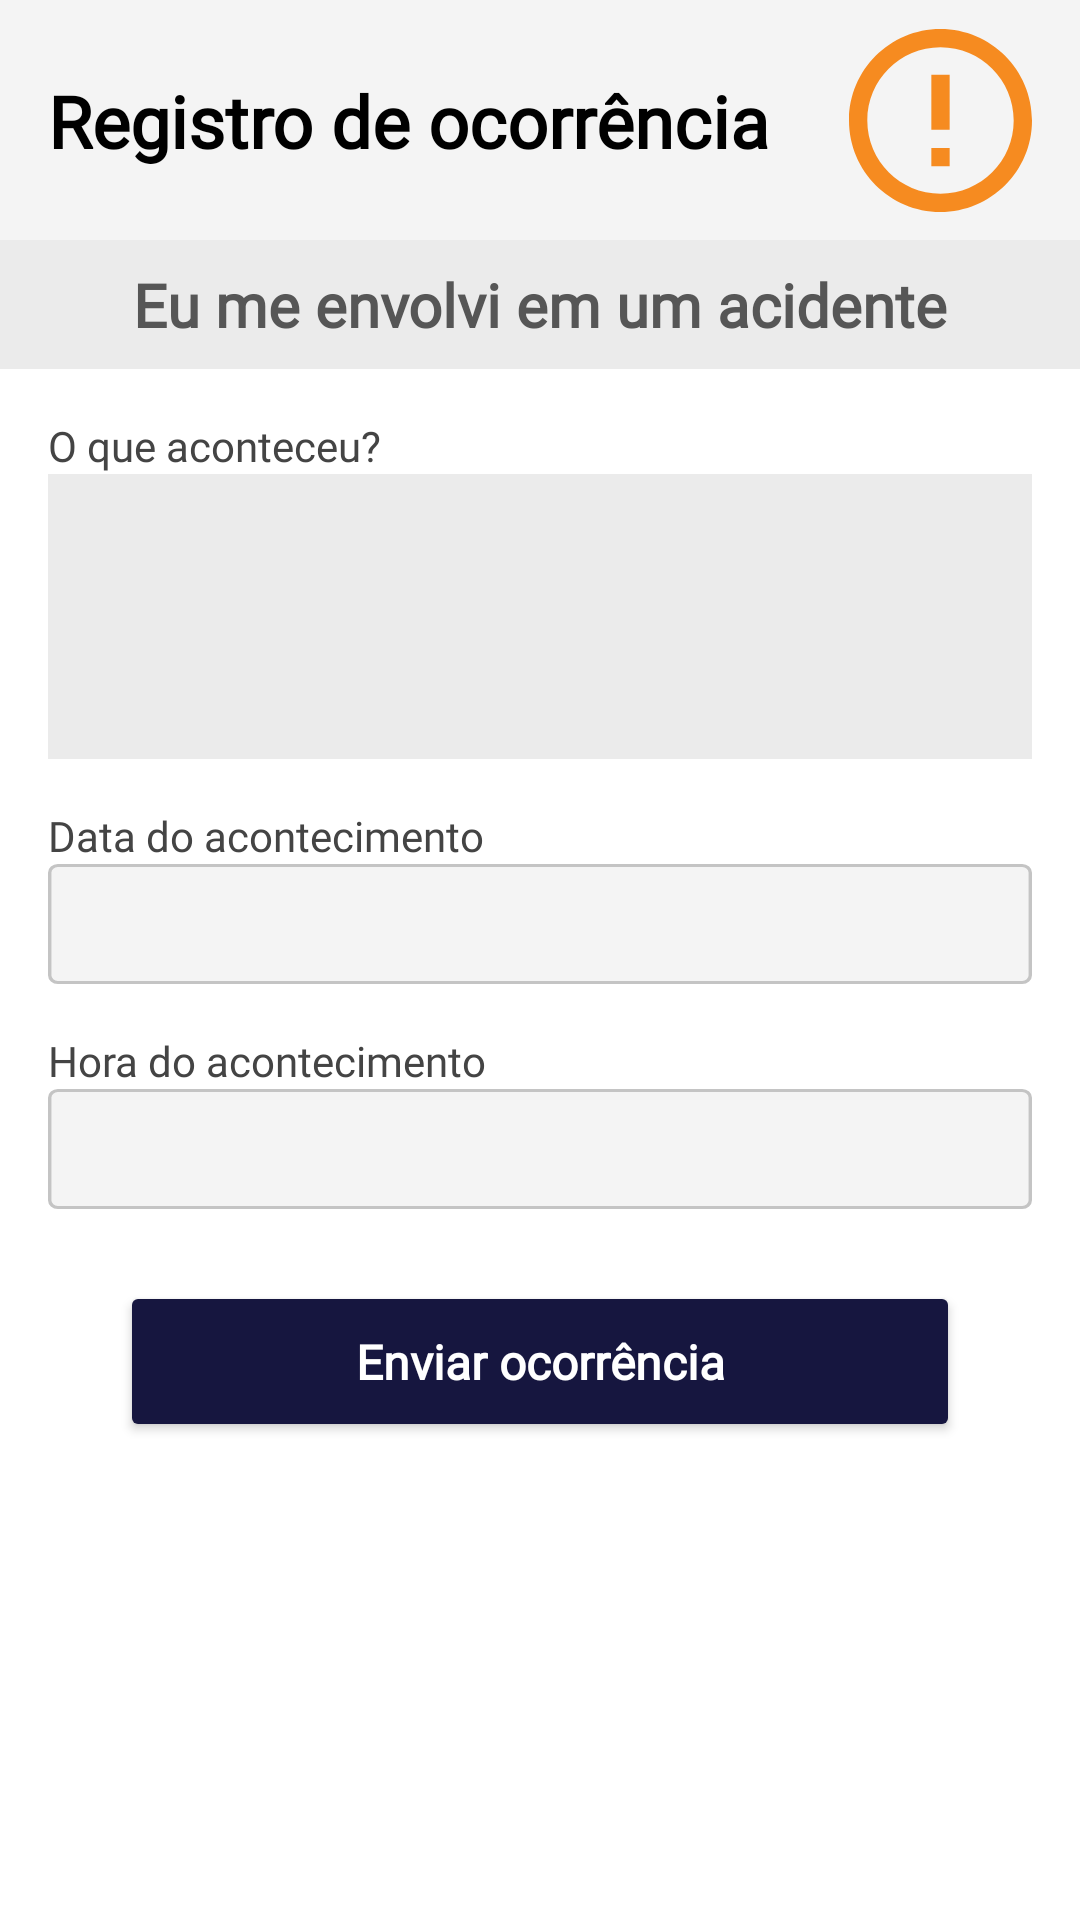

Point at icon controls on the screen. Image size 1080px×1920px, points as (x,y).
ocorrencia: (940,120)
